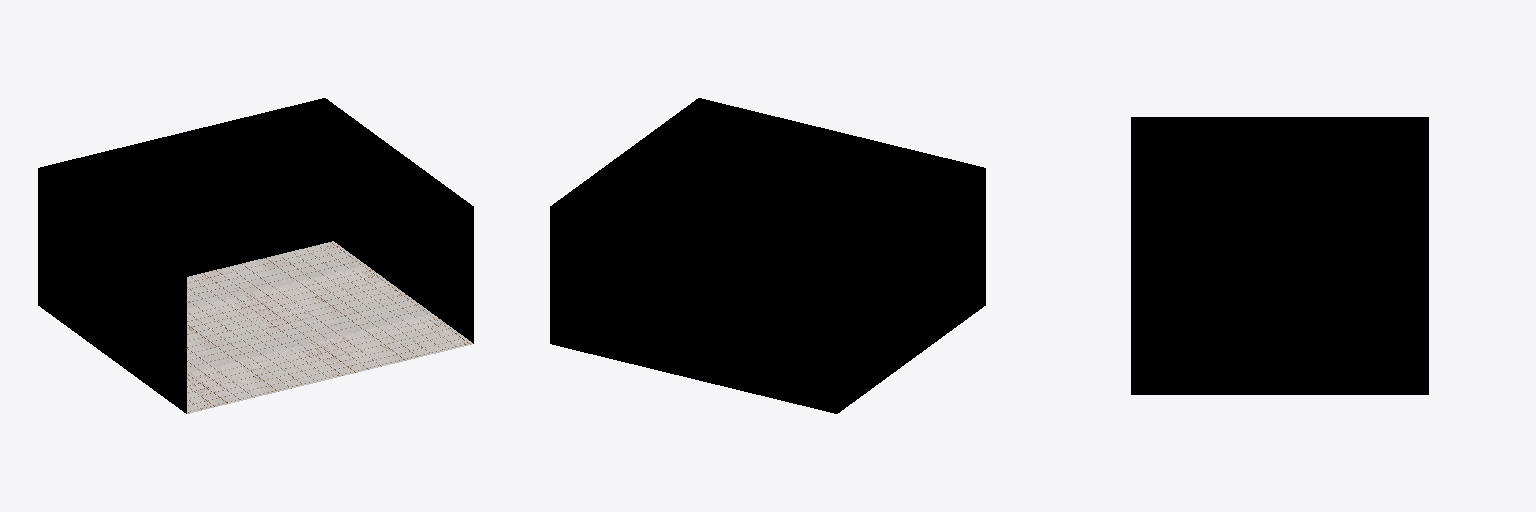
3 views of the same model, side by side, from view 1: azimuth 30°, elevation 25°; view 2: azimuth 150°, elevation 25°; view 3: azimuth 270°, elevation 25° (orthographic).
Visible parts, largest first — view 1: pCube1; view 2: pCube1; view 3: pCube1.
Boxes of the visible parts, x1=… form: pCube1: x1=38, y1=98, x2=473, y2=413; pCube1: x1=550, y1=98, x2=985, y2=413; pCube1: x1=1131, y1=117, x2=1428, y2=394.
Size of the model in its own units: 41.63 by 18.99 by 37.38.
Materials: 3 (1 with a texture image).